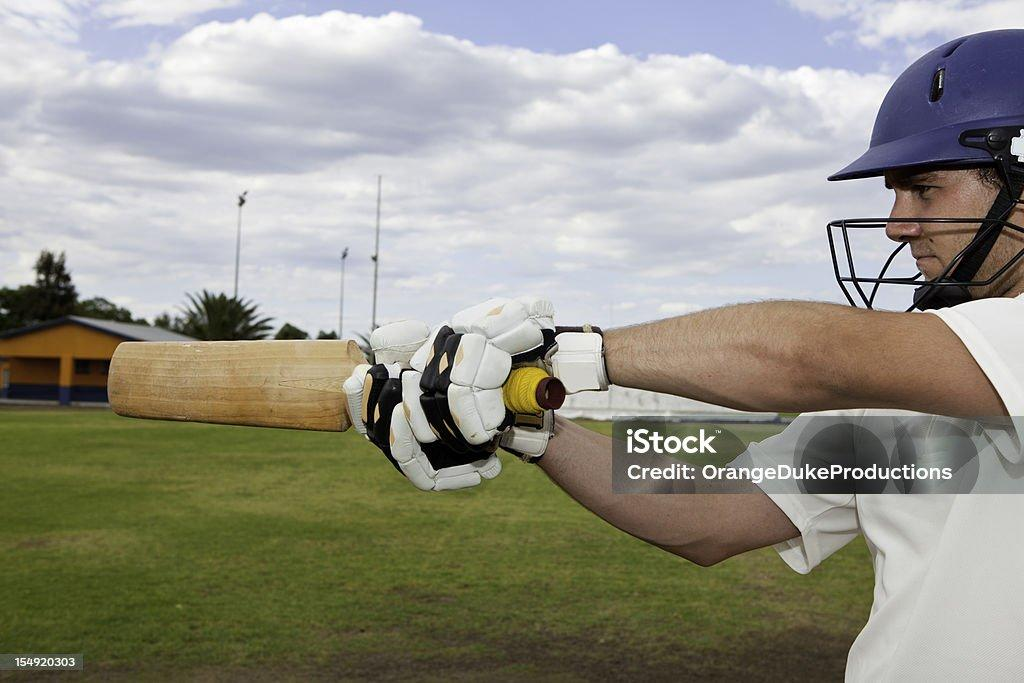batsman: (292, 22, 1024, 683)
